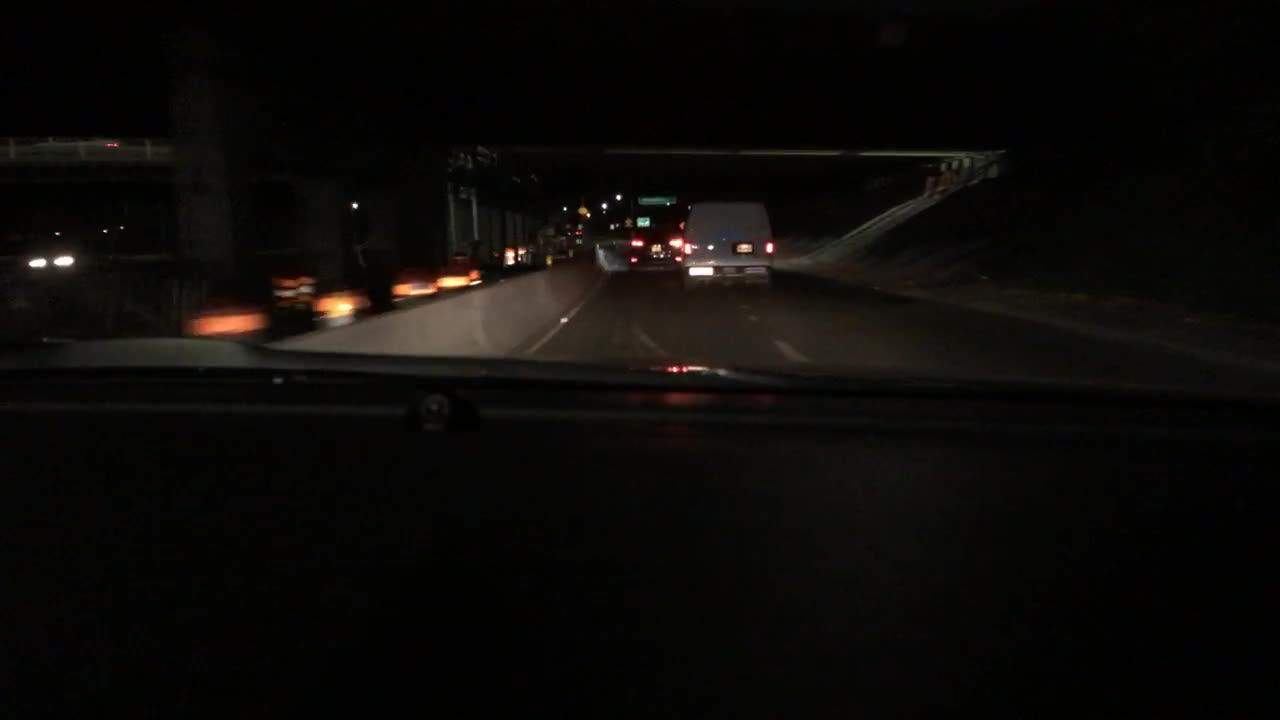car: (675, 198, 779, 293), (626, 226, 685, 270), (26, 245, 75, 272)
traffic sign: (635, 195, 673, 204), (576, 201, 589, 217), (636, 216, 651, 227), (624, 214, 632, 226)
